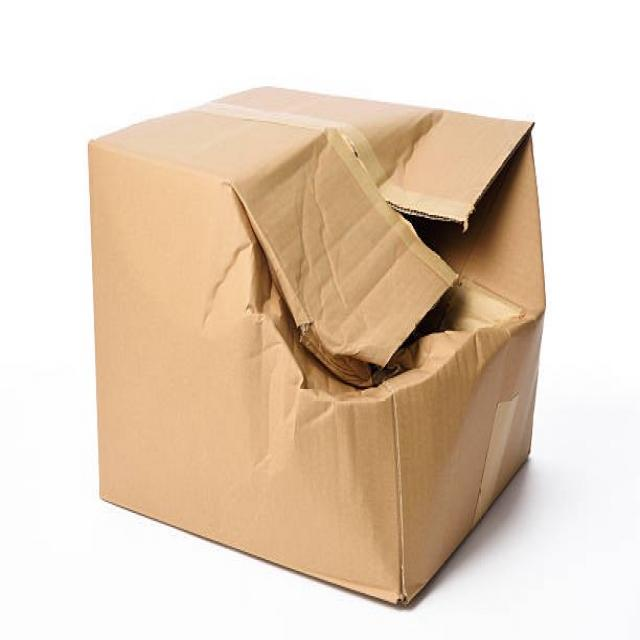squeeze: (248, 83, 544, 420)
